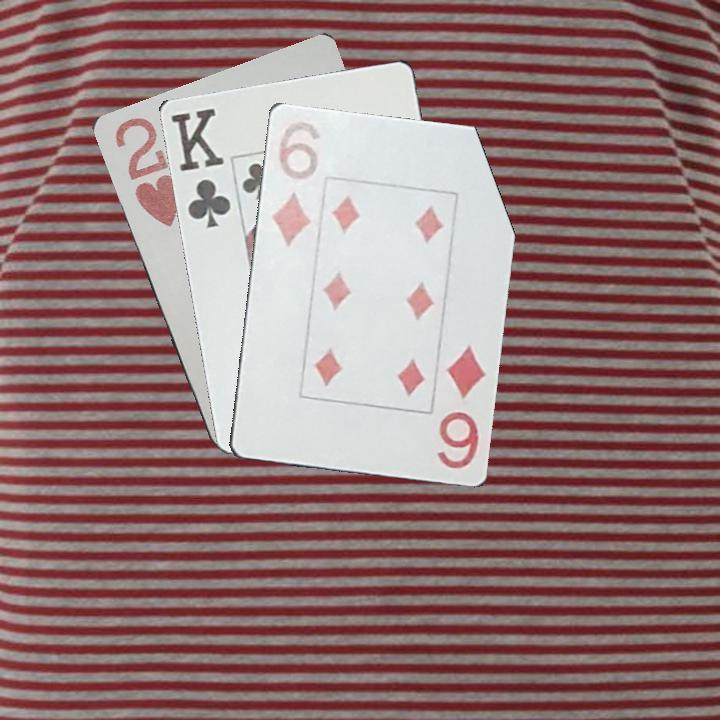2h: (111, 113, 182, 230)
6d: (268, 115, 323, 249), (433, 341, 488, 473)
Kc: (166, 104, 234, 231)
